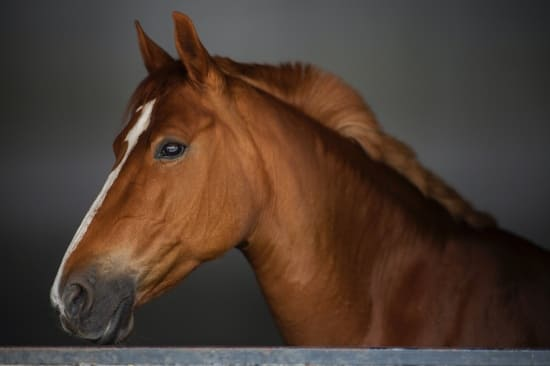horse: (50, 16, 550, 350)
